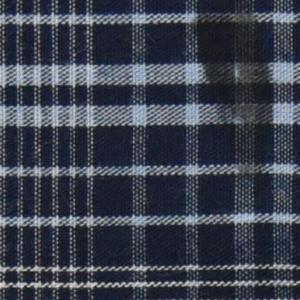Stain: (188, 1, 281, 195)
